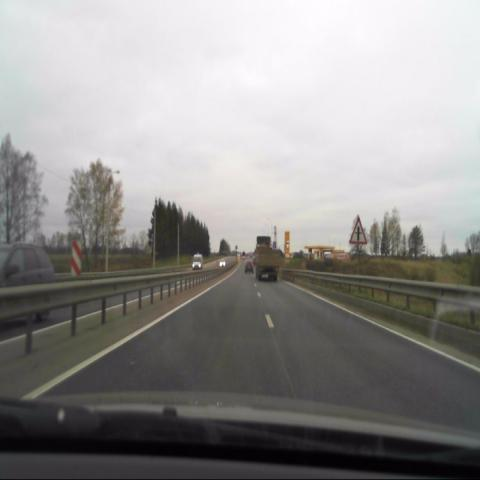2_3: (350, 217, 368, 245)
